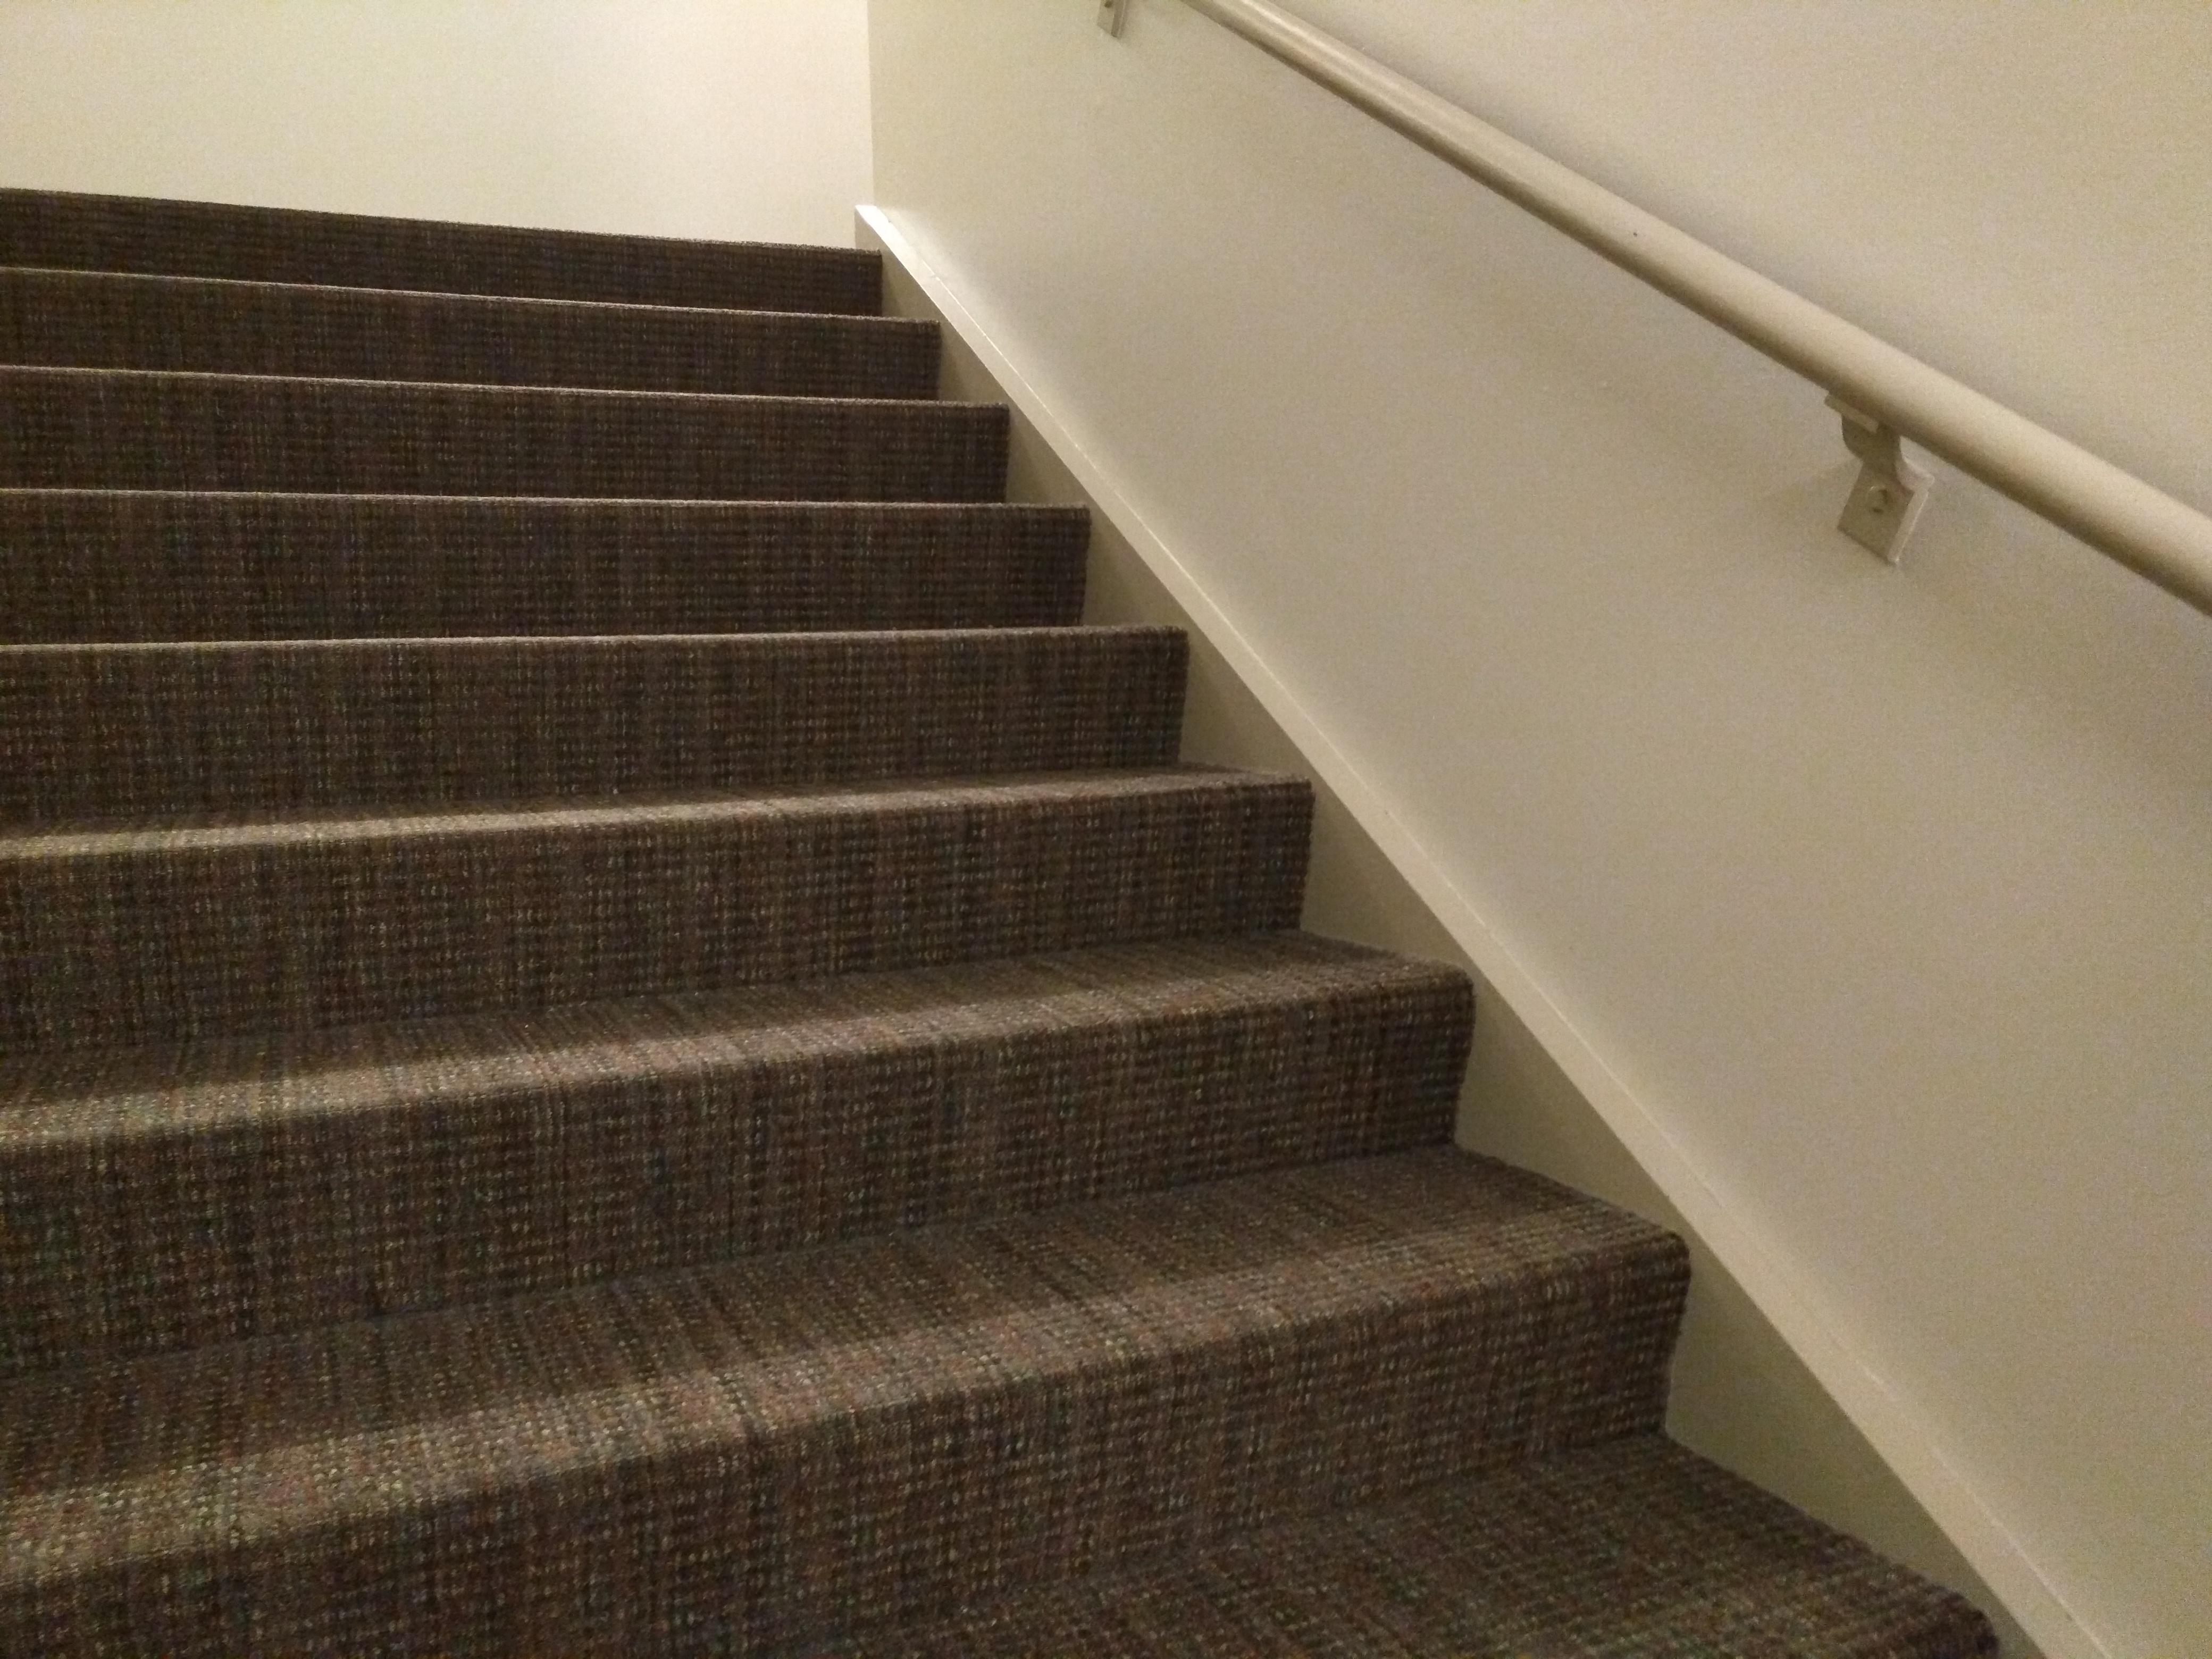stairs_up: (5, 183, 1698, 1615)
